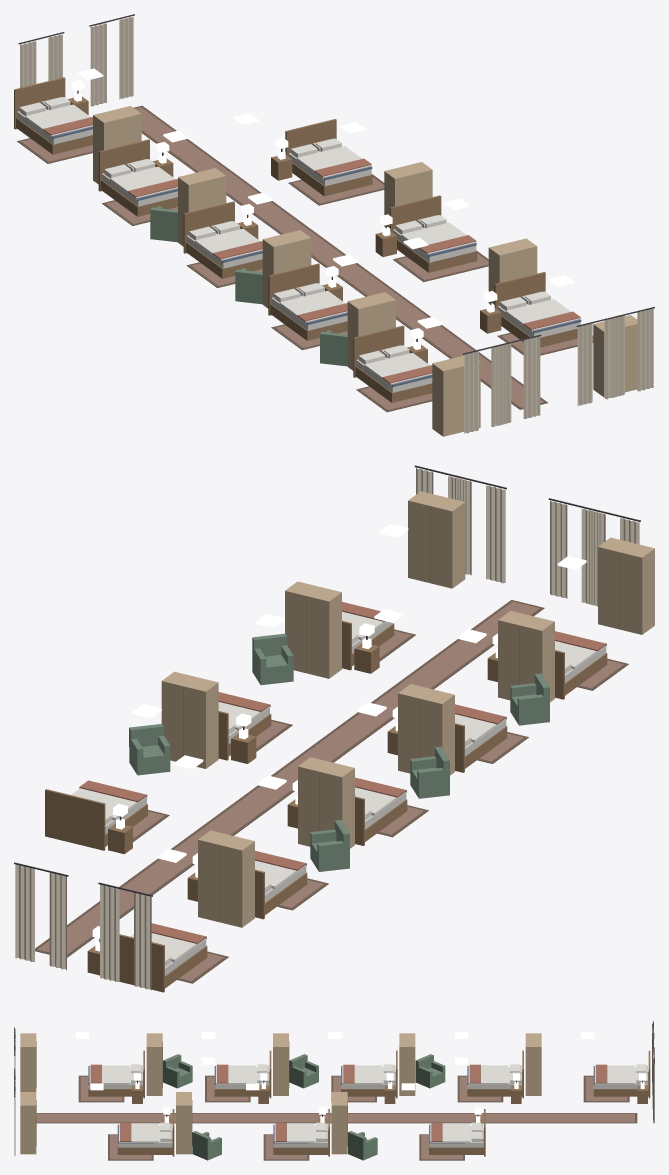
The model's file is fine-s1.glb.
3 renders of one model, top to bottom at view 1: azimuth 30°, elevation 25°; view 2: azimuth 150°, elevation 25°; view 3: azimuth 270°, elevation 25°, orthographic. The views are drawn at different scales.
Visible parts, largest first — view 1: soft-s1, dresser.007, bed-frame.000, bed-frame.007, bed-frame.001, bed-frame.003, bed-frame.004, bed-frame.006, bed-frame.005, bed-frame.002, dresser.005, dresser.006 (+8 smaller); view 2: soft-s1, dresser.002, dresser.007, dresser.003, dresser.001, dresser.000, dresser.005, dresser.004, dresser.006, bed-frame.000, bed-frame.003, lounge-chair.000 (+12 smaller); view 3: soft-s1, dresser.003, dresser.006, dresser.000, dresser.002, dresser.005, dresser.001, dresser.007, dresser.004, bed-frame.002, bed-frame.000, bed-frame.001 (+11 smaller).
Boxes of the visible parts, x1=… form: soft-s1: x1=17, y1=14, x2=654, y2=433; dresser.007: x1=432, y1=355, x2=480, y2=436; bed-frame.000: x1=285, y1=119, x2=372, y2=196; bed-frame.007: x1=353, y1=325, x2=432, y2=402; bed-frame.001: x1=390, y1=195, x2=477, y2=272; bed-frame.003: x1=14, y1=77, x2=92, y2=154; bed-frame.004: x1=98, y1=139, x2=177, y2=216; bed-frame.006: x1=268, y1=263, x2=347, y2=340; bed-frame.005: x1=183, y1=201, x2=262, y2=278; bed-frame.002: x1=494, y1=272, x2=581, y2=347; dresser.005: x1=262, y1=230, x2=311, y2=308; dresser.006: x1=347, y1=292, x2=395, y2=370; soft-s1: x1=14, y1=465, x2=640, y2=990; dresser.002: x1=408, y1=491, x2=465, y2=588; dresser.007: x1=598, y1=537, x2=654, y2=634; dresser.003: x1=198, y1=830, x2=254, y2=927; dresser.001: x1=285, y1=581, x2=341, y2=678; dresser.000: x1=161, y1=671, x2=218, y2=768; dresser.005: x1=398, y1=684, x2=454, y2=775; dresser.004: x1=298, y1=757, x2=354, y2=848; dresser.006: x1=498, y1=611, x2=554, y2=702; bed-frame.000: x1=45, y1=789, x2=147, y2=850; bed-frame.003: x1=119, y1=934, x2=207, y2=992; lounge-chair.000: x1=129, y1=724, x2=170, y2=775; soft-s1: x1=14, y1=1021, x2=654, y2=1160; dresser.003: x1=525, y1=1033, x2=541, y2=1095; dresser.006: x1=146, y1=1033, x2=162, y2=1095; dresser.000: x1=331, y1=1092, x2=347, y2=1154; dresser.002: x1=20, y1=1092, x2=36, y2=1154; dresser.005: x1=273, y1=1033, x2=289, y2=1095; dresser.001: x1=176, y1=1092, x2=192, y2=1154; dresser.007: x1=20, y1=1033, x2=36, y2=1091; dresser.004: x1=399, y1=1033, x2=415, y2=1095; bed-frame.002: x1=117, y1=1109, x2=174, y2=1156; bed-frame.000: x1=429, y1=1109, x2=485, y2=1156; bed-frame.001: x1=273, y1=1109, x2=329, y2=1156.
Bounding box in the file's own units: 7.43 × 2.51 × 23.79.
